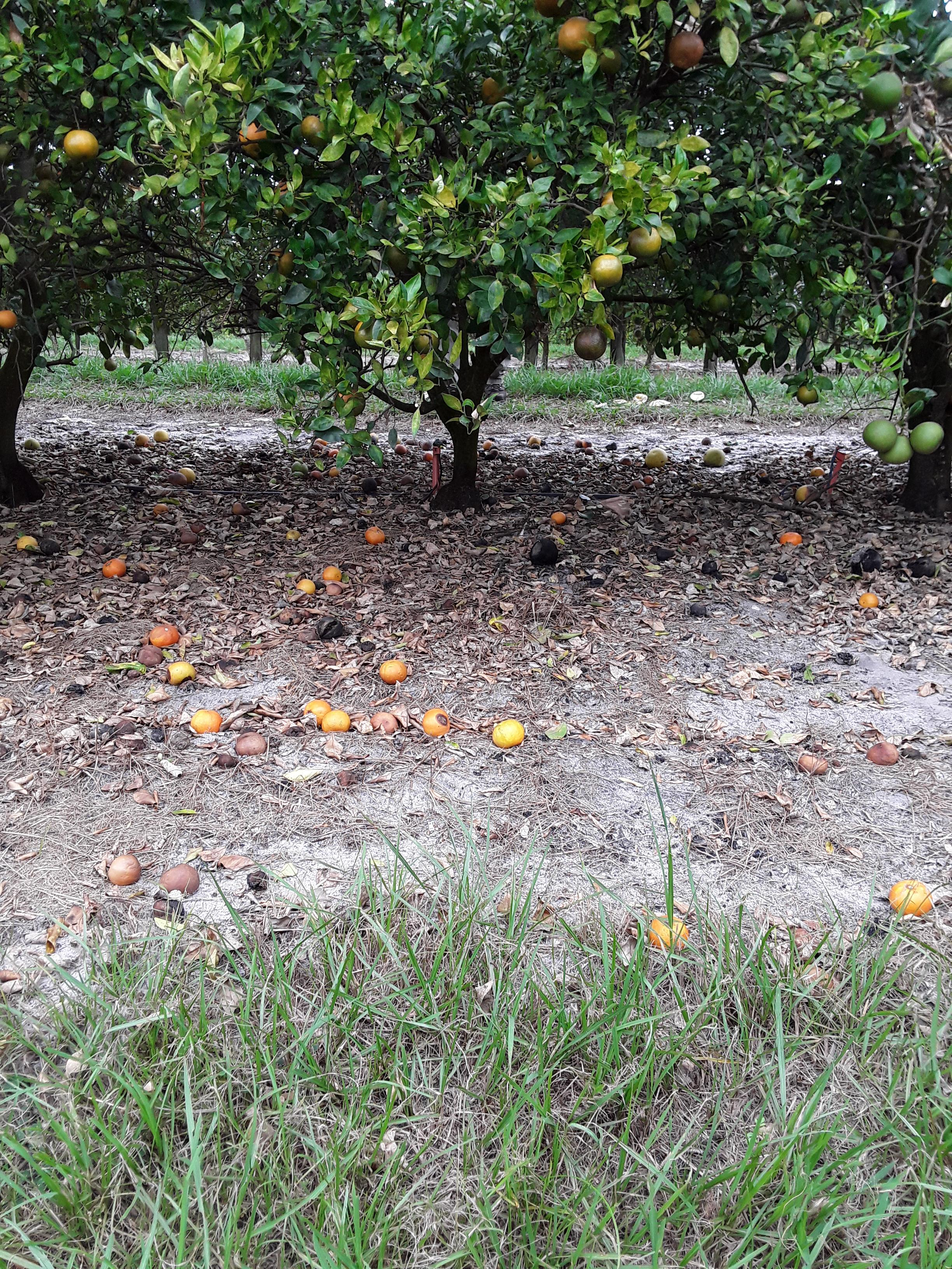fruit_on_ground: (670, 24, 706, 72), (555, 14, 591, 59), (873, 67, 907, 112), (66, 119, 99, 163), (591, 248, 623, 289), (915, 417, 946, 459), (630, 223, 660, 261), (298, 109, 326, 147), (864, 413, 892, 449), (239, 118, 266, 153), (886, 437, 914, 468), (580, 331, 606, 364), (598, 49, 623, 80), (478, 74, 502, 105), (270, 246, 292, 276), (339, 393, 362, 421), (382, 243, 405, 271), (600, 192, 621, 219), (527, 152, 548, 178), (445, 396, 466, 421), (884, 223, 903, 248), (353, 316, 372, 341), (0, 144, 18, 170), (541, 0, 562, 22), (801, 385, 820, 409), (441, 400, 460, 424), (2, 306, 20, 331), (525, 147, 543, 170), (351, 327, 369, 349), (687, 327, 703, 346)
fruit_on_tree: (894, 875, 933, 923), (494, 715, 527, 754), (109, 852, 141, 890), (646, 916, 677, 955), (169, 861, 199, 898), (424, 705, 453, 739), (872, 739, 900, 774), (909, 870, 927, 923), (192, 704, 219, 735), (901, 874, 920, 918), (801, 746, 827, 778), (324, 704, 352, 733), (377, 656, 403, 686), (235, 735, 261, 762), (375, 708, 399, 734), (331, 711, 354, 737), (649, 447, 671, 473), (170, 659, 192, 685), (538, 542, 561, 566), (107, 559, 129, 584), (158, 622, 180, 647), (703, 448, 724, 474), (912, 556, 934, 579), (101, 555, 122, 579), (167, 666, 188, 689), (369, 527, 389, 551), (15, 533, 35, 557), (836, 645, 856, 669), (859, 551, 879, 574), (858, 589, 878, 612), (154, 894, 173, 918), (338, 768, 358, 790), (135, 737, 155, 758), (298, 576, 317, 598), (214, 748, 233, 770), (326, 564, 344, 586), (705, 556, 723, 576), (177, 467, 195, 486), (792, 484, 809, 503), (27, 437, 43, 457), (179, 473, 196, 491), (797, 488, 813, 507), (551, 507, 567, 526), (554, 512, 570, 531), (23, 433, 38, 453), (140, 563, 156, 580), (155, 500, 170, 516), (231, 503, 245, 518), (157, 505, 170, 520), (154, 428, 167, 442), (580, 442, 593, 456), (398, 446, 411, 460), (394, 445, 406, 460), (529, 439, 542, 452), (530, 434, 541, 448), (488, 438, 499, 451), (578, 442, 588, 455), (485, 442, 495, 454)
